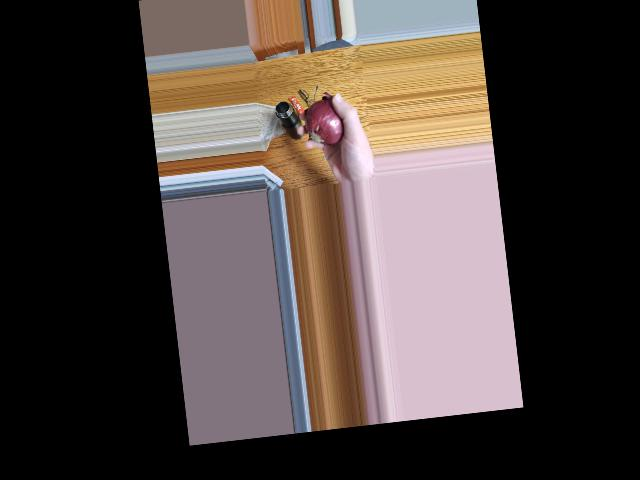onion: (308, 101, 350, 144)
